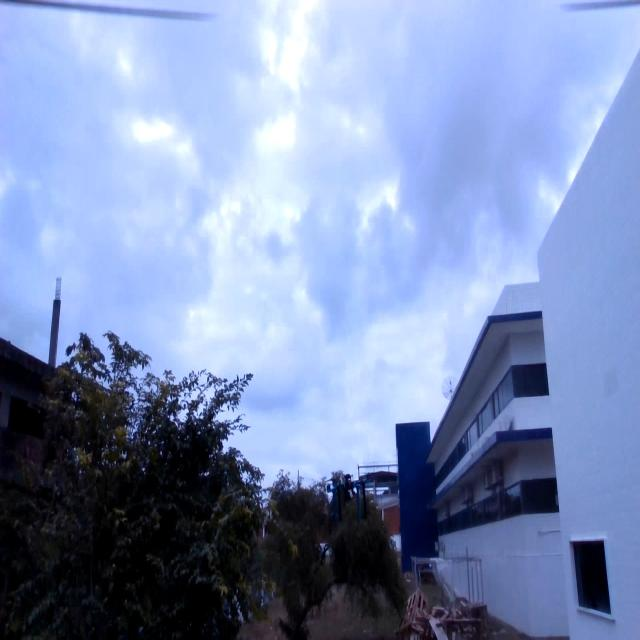-uav-: (313, 459, 385, 534)
